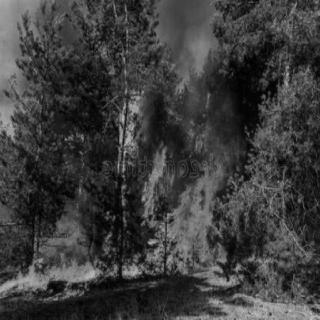Fire: (110, 83, 270, 281)
